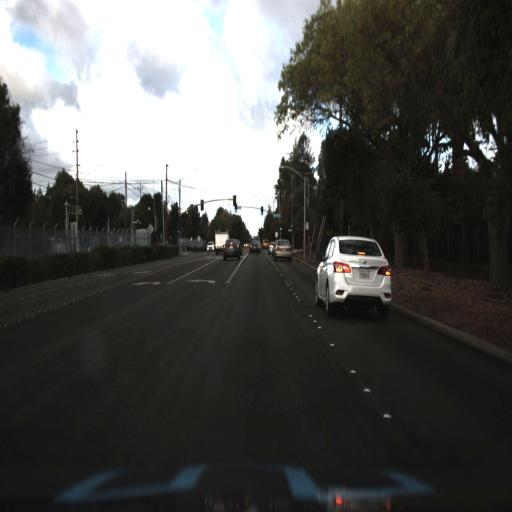car: (309, 224, 398, 329), (218, 240, 242, 268), (273, 239, 294, 261), (247, 236, 263, 256)
trafficLight-Green: (289, 215, 294, 234)
truck: (212, 225, 231, 253), (213, 230, 227, 260)
